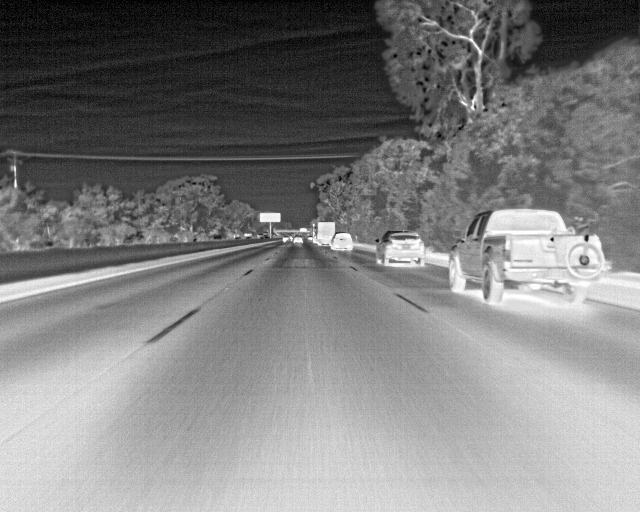vehicle: (449, 209, 607, 306), (378, 231, 427, 268), (313, 220, 338, 246), (333, 232, 354, 257)
